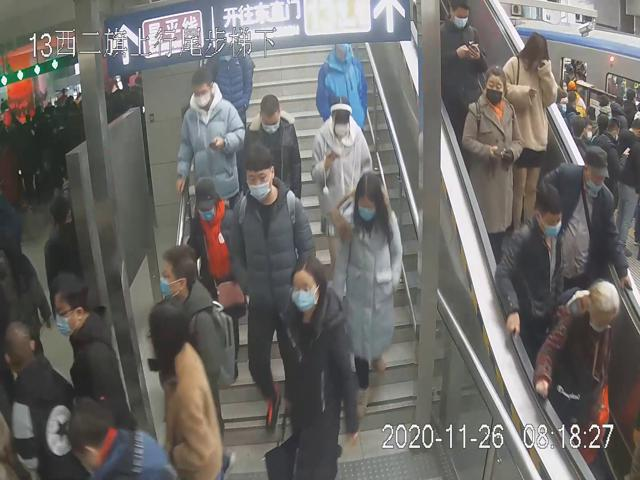person: (229, 142, 316, 433), (273, 253, 360, 480), (327, 171, 402, 412), (185, 177, 252, 377), (460, 61, 524, 261), (310, 97, 376, 280), (492, 181, 562, 342), (171, 65, 245, 214), (239, 89, 303, 204)
